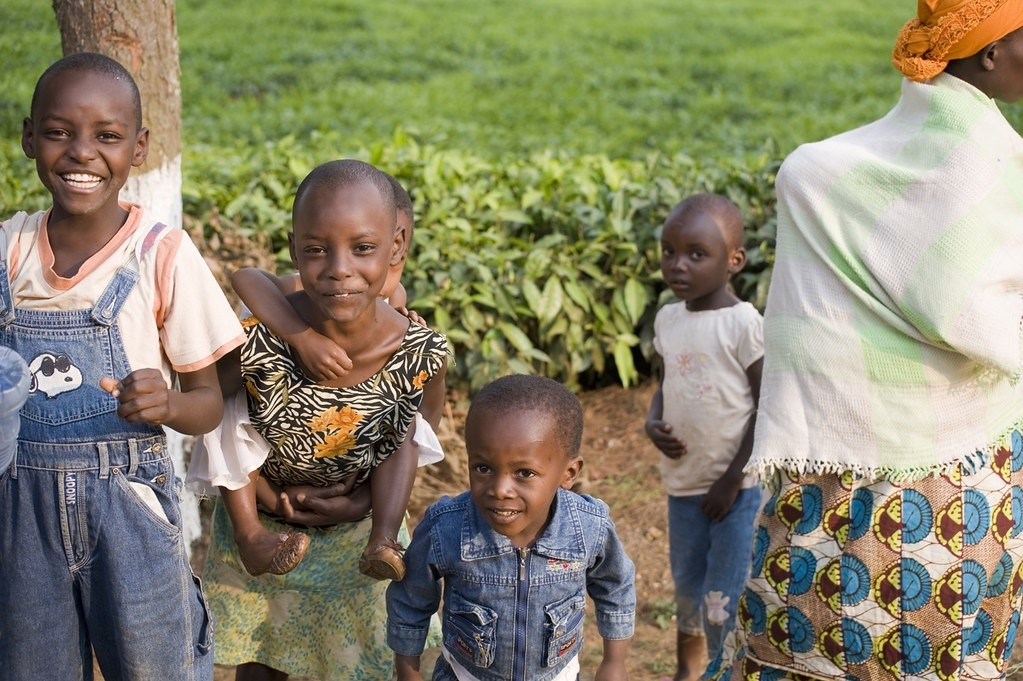face_no_mask: (23, 52, 149, 219), (287, 154, 407, 325), (464, 375, 586, 538), (662, 199, 748, 304), (384, 169, 413, 300)
